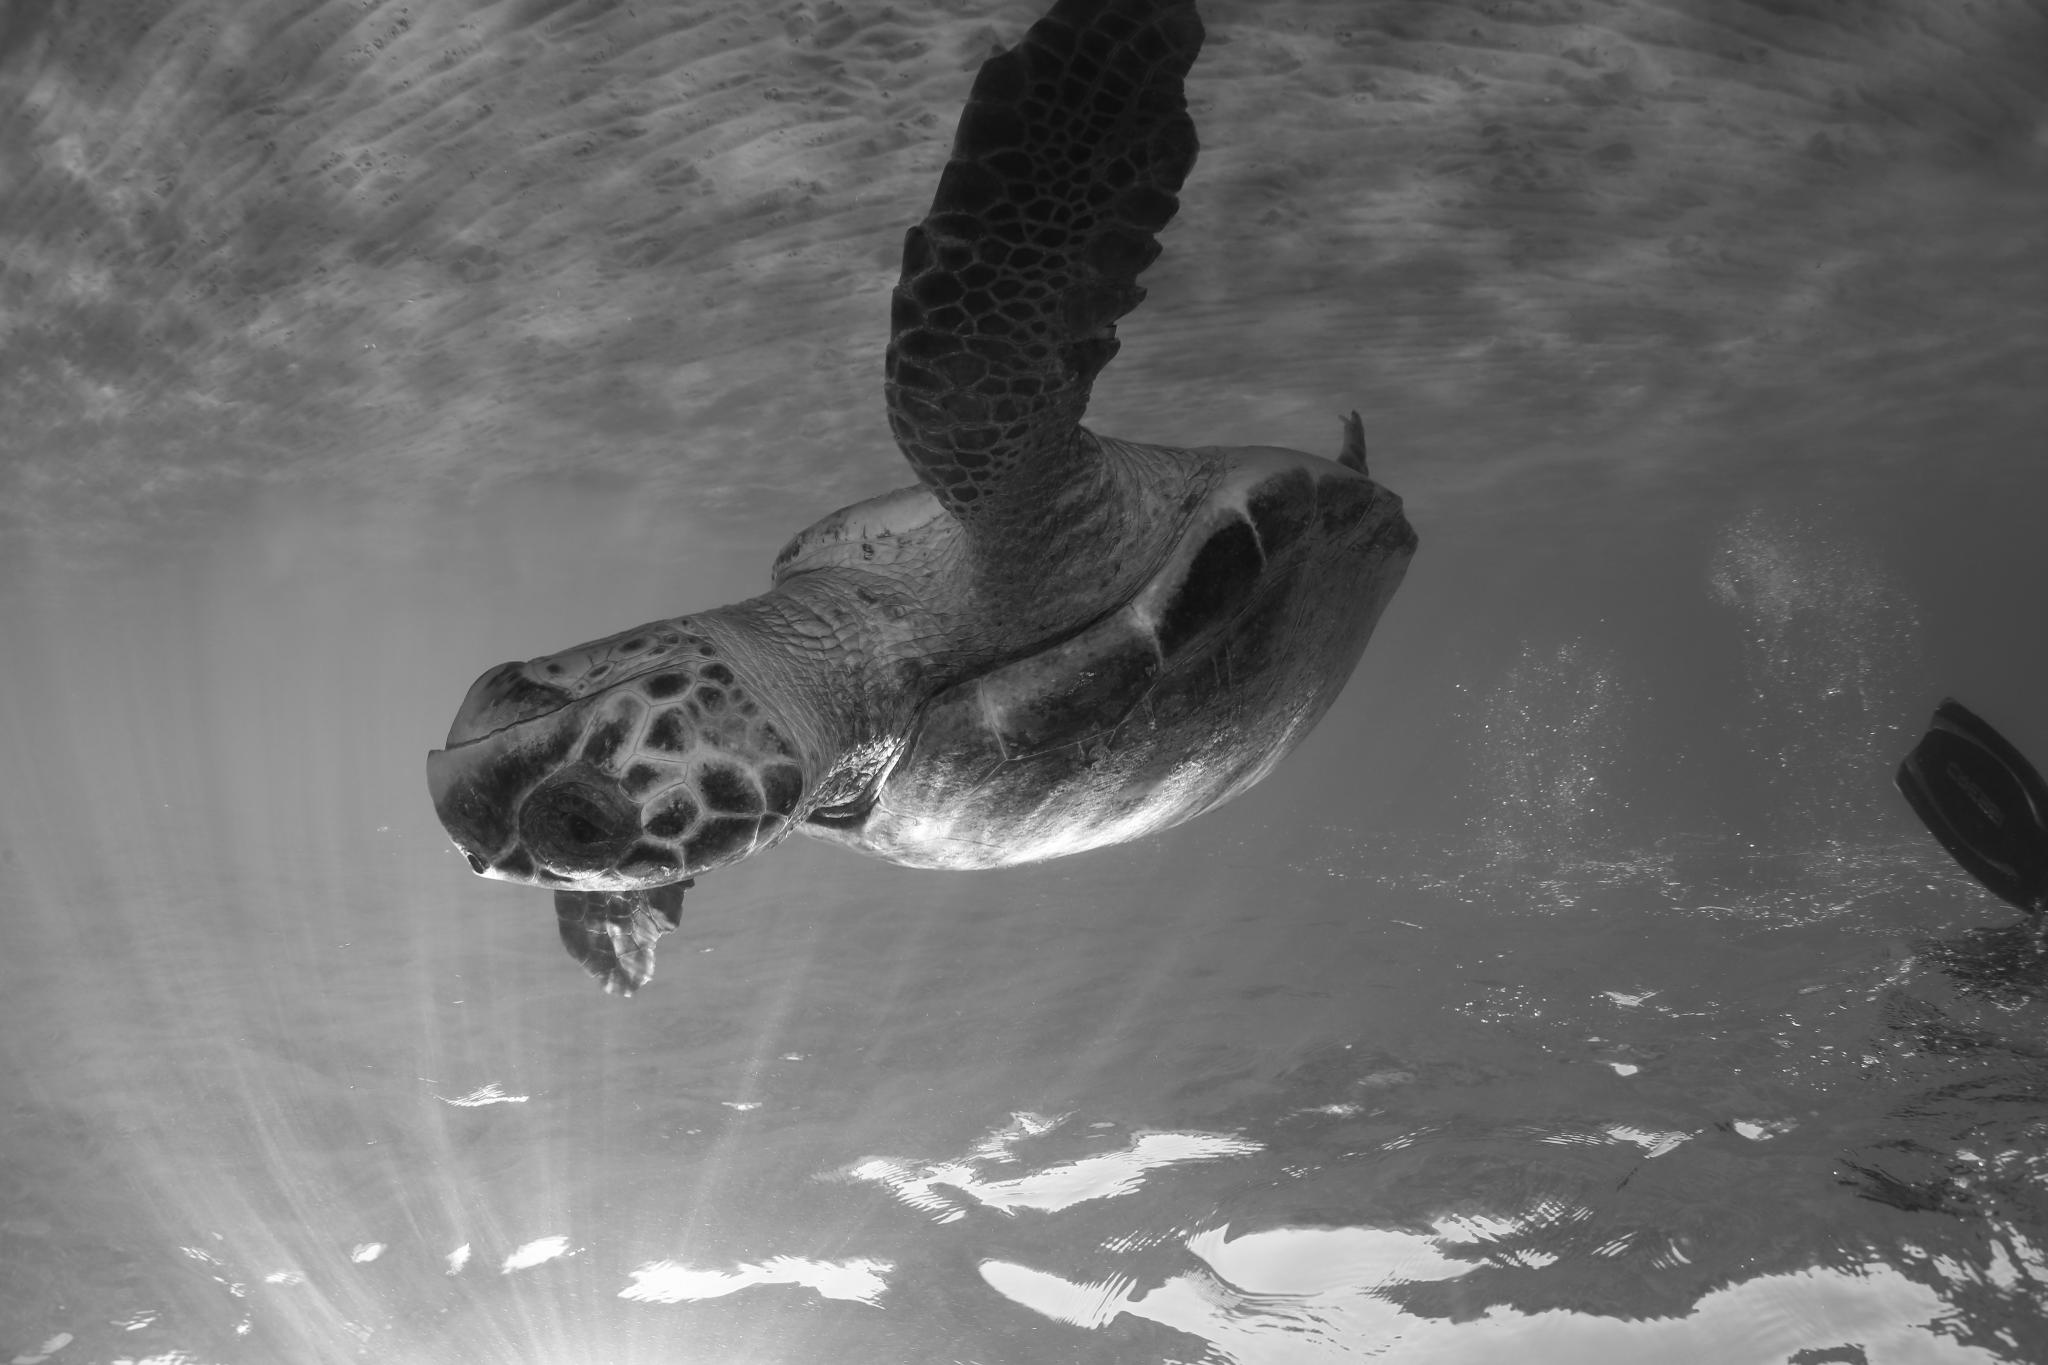Head: (427, 600, 827, 891)
